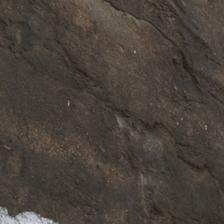Crack: (0, 0, 103, 94), (45, 45, 139, 123), (86, 61, 135, 155)
